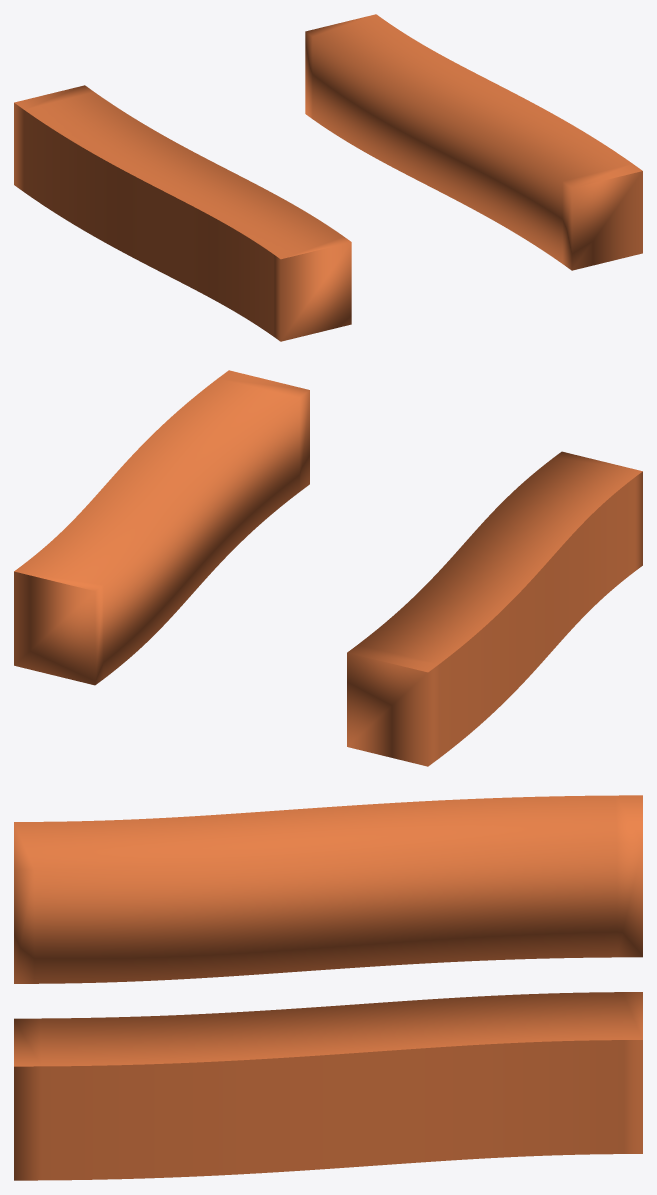
File: CantSmallLeftSand.fbx
3 views of the same model, one above another, from view 1: azimuth 30°, elevation 25°; view 2: azimuth 150°, elevation 25°; view 3: azimuth 270°, elevation 25° (orthographic). The views are drawn at different scales.
Parts seen in each view (by area): view 1: sand, sand.001; view 2: sand, sand.001; view 3: sand, sand.001.
Part boxes in pixels (<box>): sand: <box>305,14,642,270</box>; sand.001: <box>14,85,351,341</box>; sand: <box>14,370,309,685</box>; sand.001: <box>347,451,642,766</box>; sand: <box>14,992,642,1180</box>; sand.001: <box>14,795,642,983</box>.
Size of the model in its own units: 1020 by 200 by 1000.
